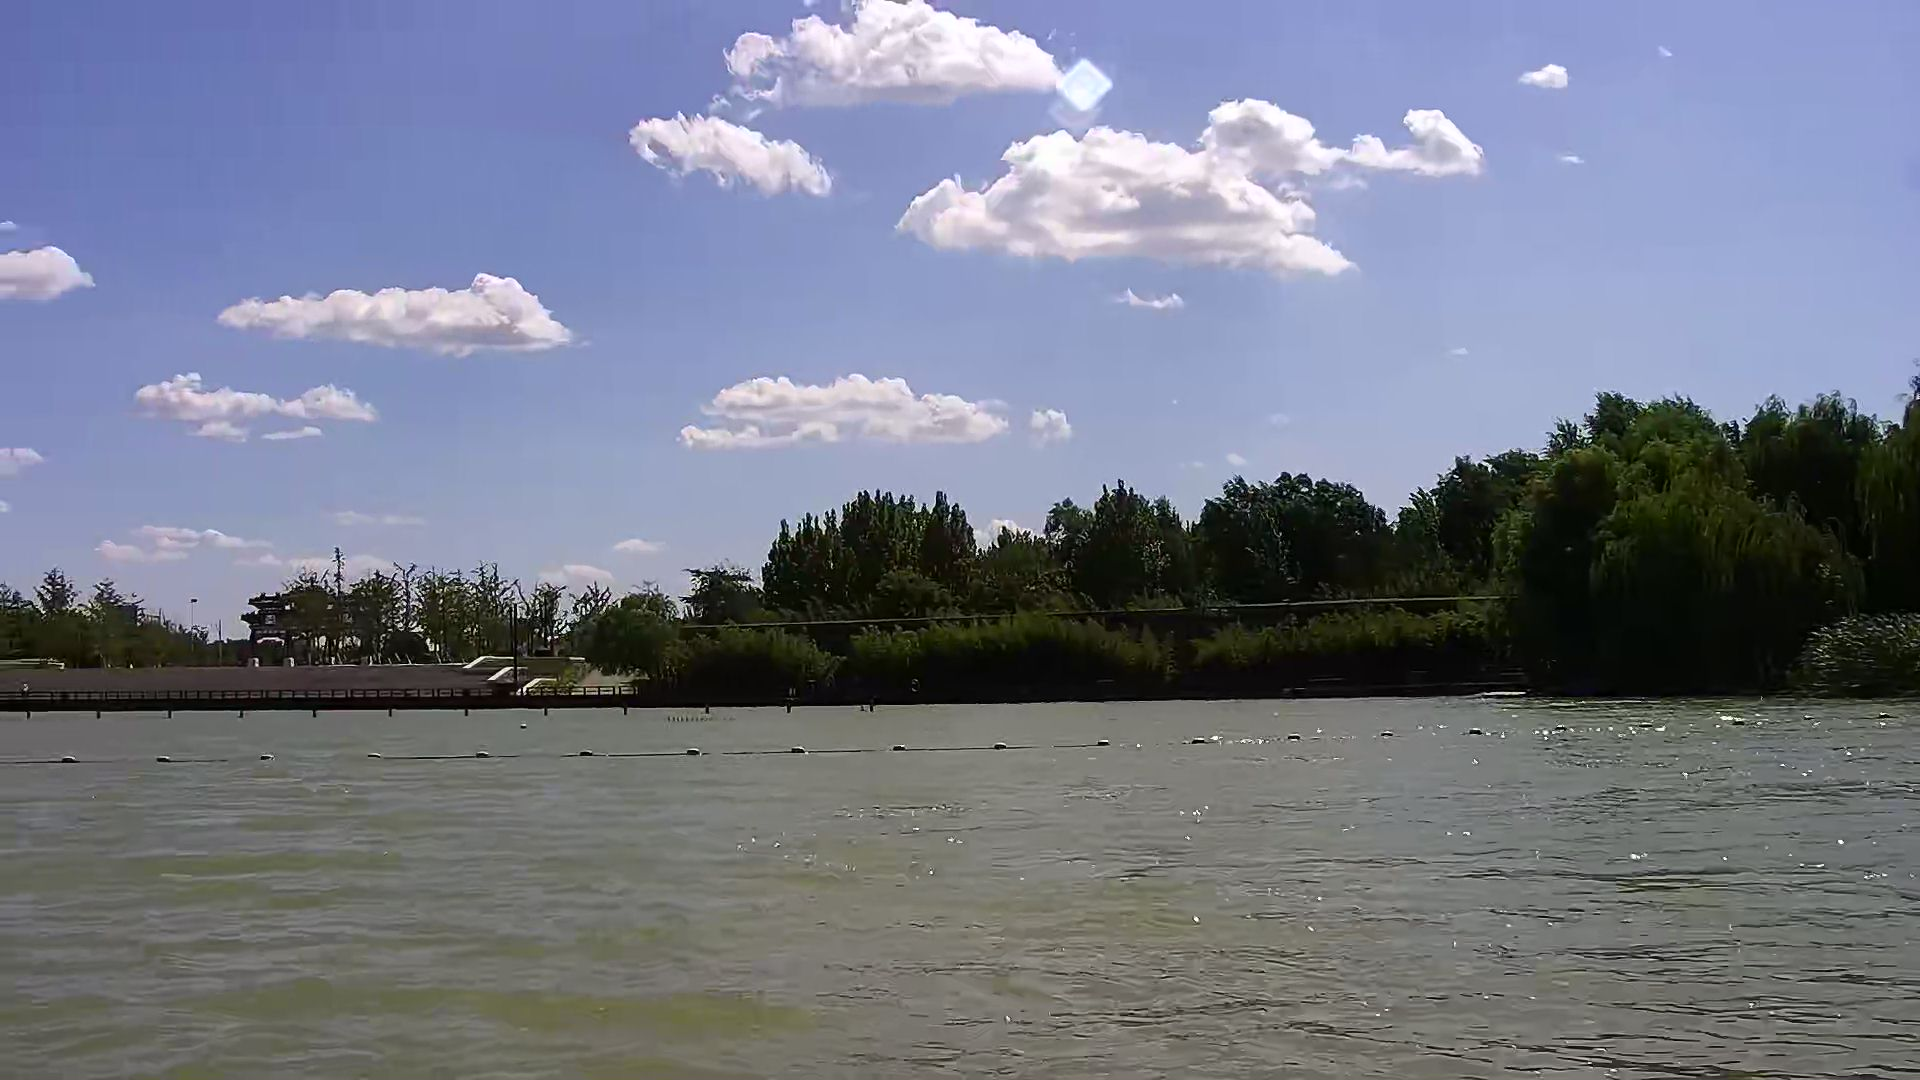ball: (785, 737, 811, 762), (572, 742, 603, 762), (887, 735, 913, 758), (53, 749, 83, 767), (473, 741, 496, 765), (676, 742, 705, 760), (153, 752, 181, 769)
harbor: (1, 661, 640, 707)
